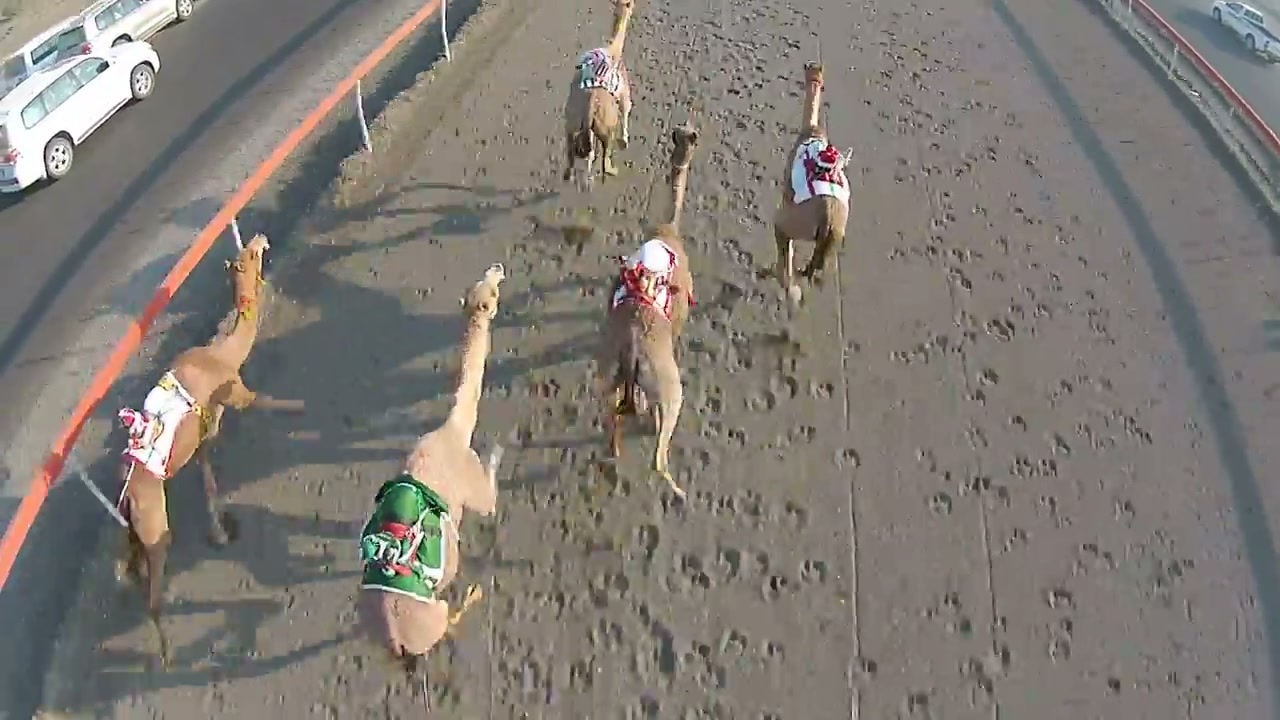animal_foot_print: (449, 12, 782, 717), (884, 33, 1100, 688), (757, 288, 871, 704), (699, 102, 789, 413)
